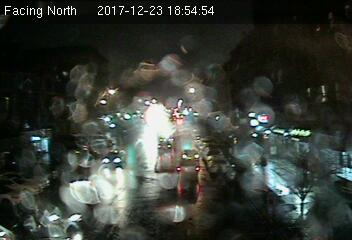car: (103, 148, 128, 166), (176, 158, 199, 176)
